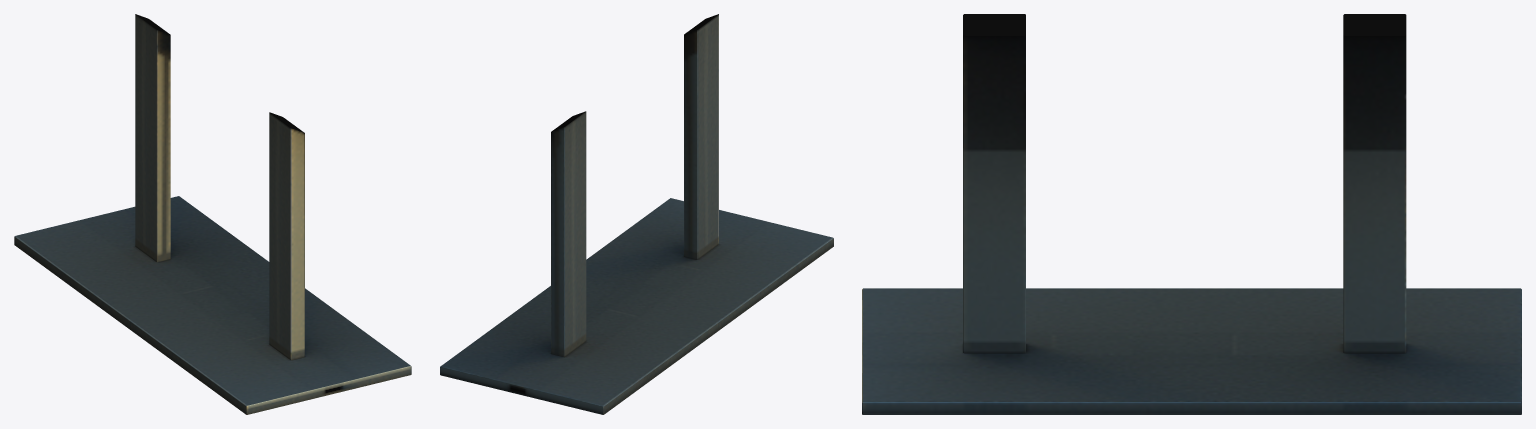
Rendered from panel_support_Frame.glb.
3 views of the same model, side by side, from view 1: azimuth 30°, elevation 25°; view 2: azimuth 150°, elevation 25°; view 3: azimuth 270°, elevation 25° (orthographic). The views are drawn at different scales.
Parts seen in each view (by area): view 1: Panel_Support_Frame3; view 2: Panel_Support_Frame3; view 3: Panel_Support_Frame3.
Part boxes in pixels (bbox=[...]): Panel_Support_Frame3: bbox=[14, 14, 411, 414]; Panel_Support_Frame3: bbox=[440, 14, 833, 414]; Panel_Support_Frame3: bbox=[862, 14, 1521, 414].
Size of the model in its own units: 0.5106 by 0.7121 by 1.25.
Materials: 1 (1 with a texture image).
